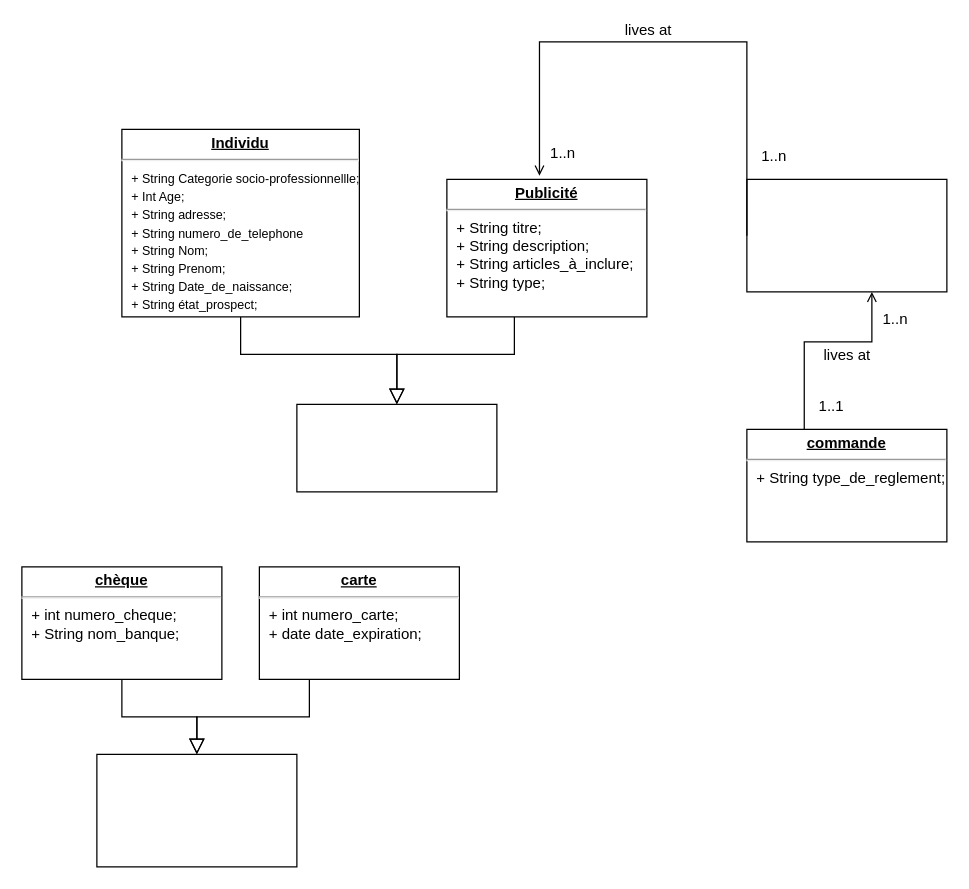
This 969x889 diagram has some shape labels left out. The box of each missing label's shape, as (x1, y1, x2, y2) in pixels:
Articles + int numero_unique; + int désignation; + int prix_de_vente;: (746, 178, 947, 292)
cible de routage: (296, 403, 497, 492)
Paiement + String type_de_reglement; + int montant;: (96, 753, 297, 867)
